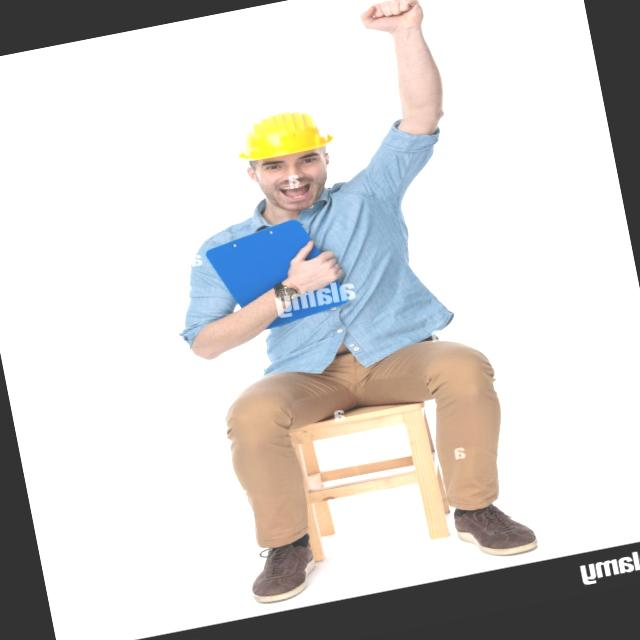helmet: (228, 99, 347, 170)
no-vest: (204, 169, 441, 398), (246, 138, 334, 183)
